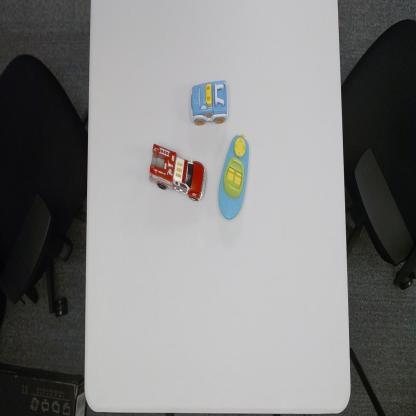Boat: (216, 130, 250, 222)
Car: (190, 79, 230, 128)
Firetruck: (148, 142, 207, 204)
